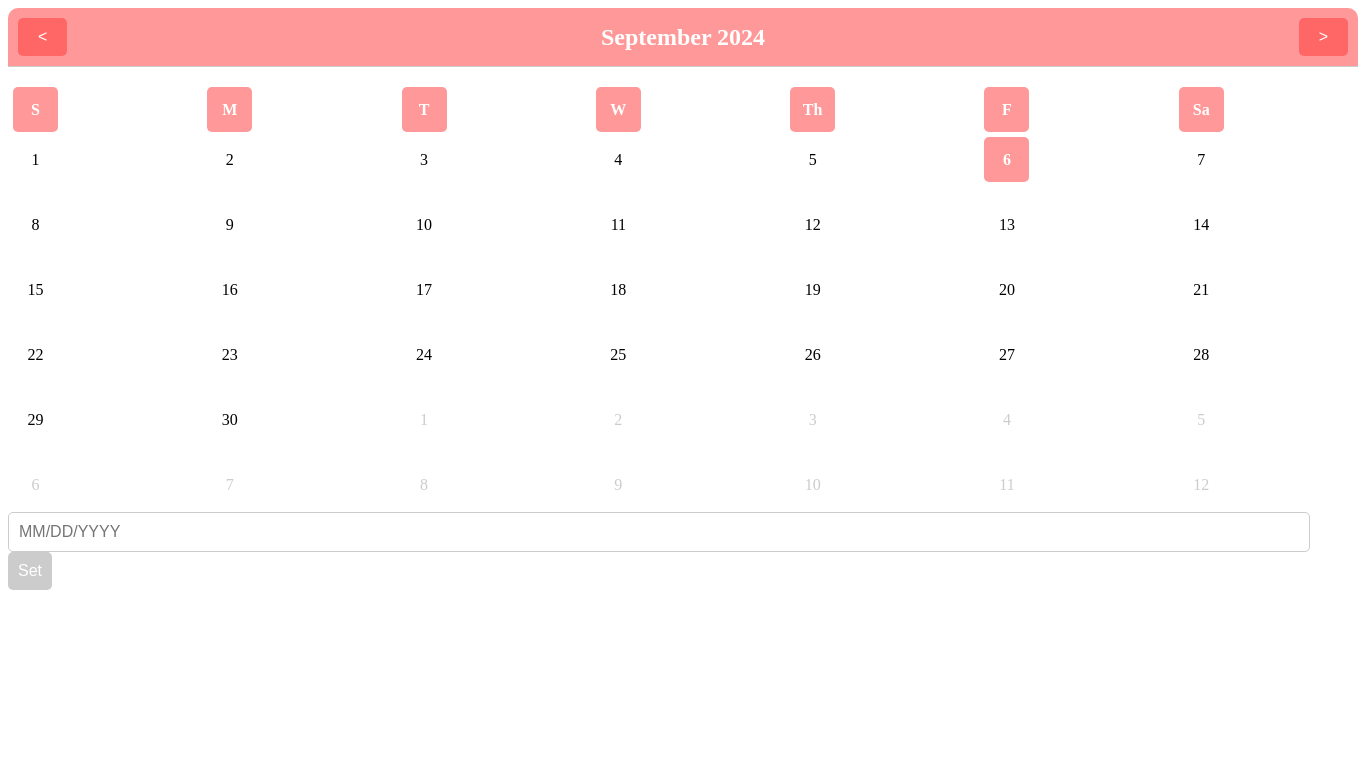
Test: Stretch Tests › Set button is enabled with valid date
Type "10/18/2022" into the field with placeholder "MM/DD/YYYY" at (659, 532), box [8,512,1310,552]
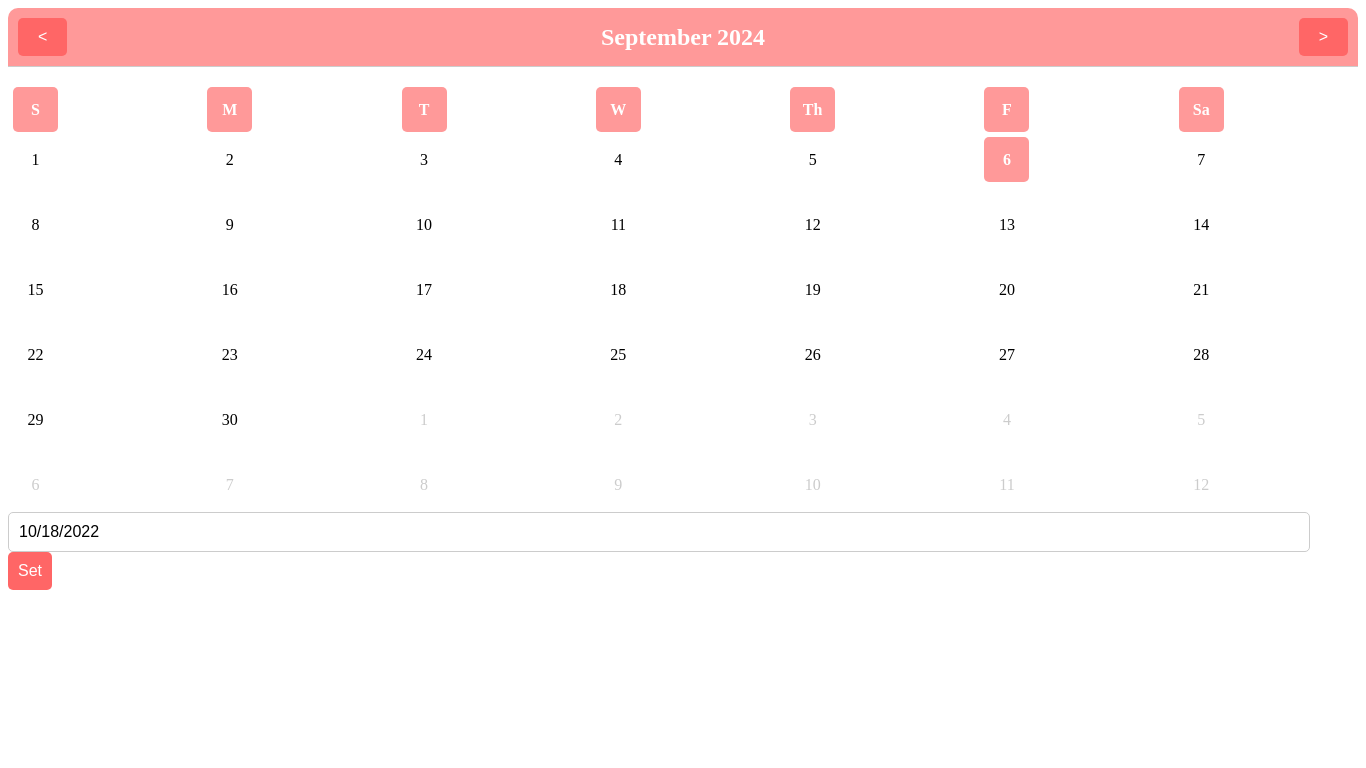
Expected: the button "Set" is enabled, [8,552,52,590]
